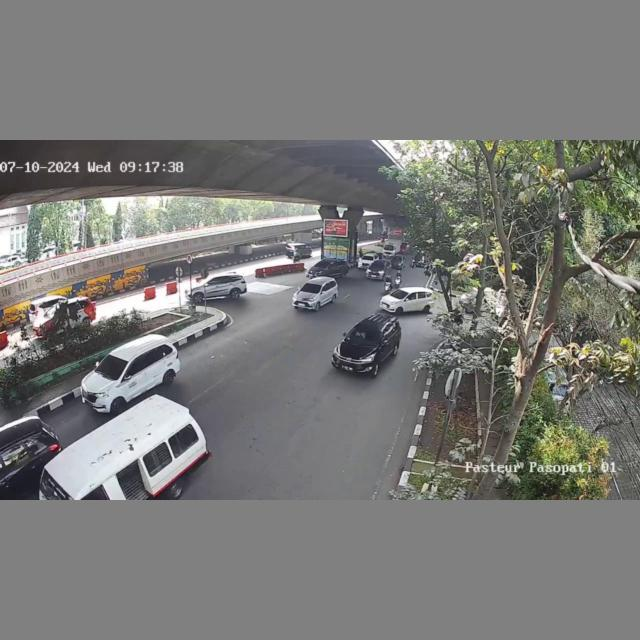windshield: (94, 354, 128, 378), (348, 325, 382, 344), (300, 282, 324, 295)
